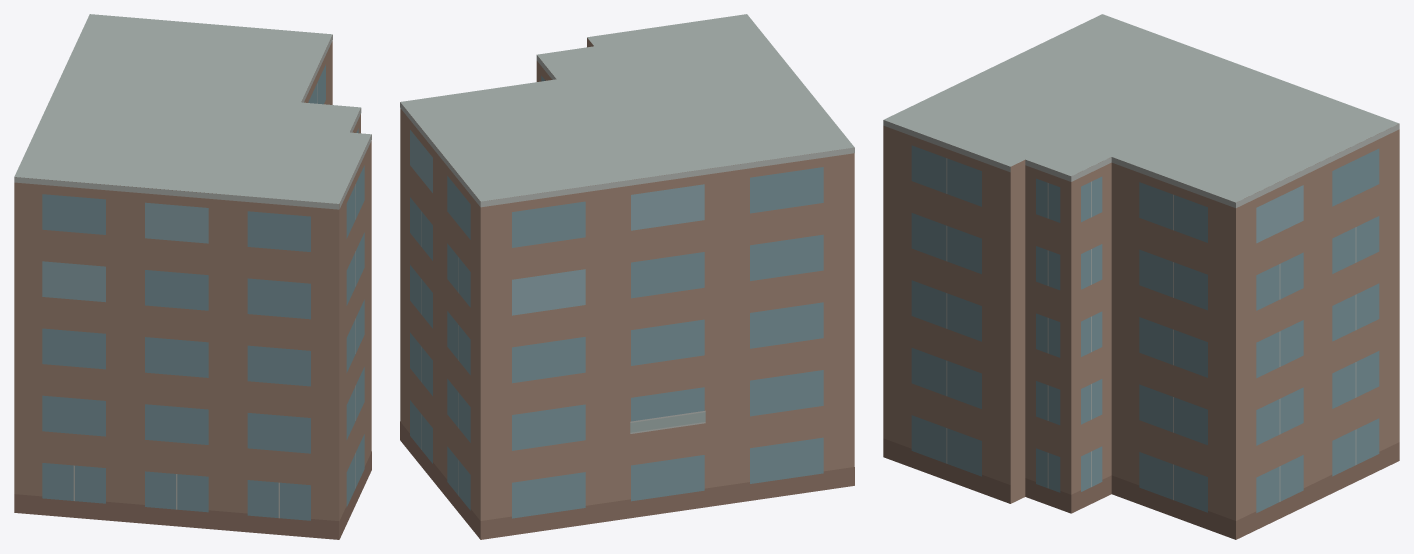
The model's file is survey-upis-32871816.glb.
The picture shows the model from 3 angles, left to right: view 1: azimuth 30°, elevation 25°; view 2: azimuth 150°, elevation 25°; view 3: azimuth 270°, elevation 25°; orthographic projection.
Visible parts, largest first — view 1: survey-upis-32871816.tmp; view 2: survey-upis-32871816.tmp; view 3: survey-upis-32871816.tmp.
Part boxes in pixels (box(x1,y1,x2,y2)): survey-upis-32871816.tmp: box(14, 14, 371, 539); survey-upis-32871816.tmp: box(400, 14, 854, 539); survey-upis-32871816.tmp: box(883, 14, 1399, 539).
Bounding box in the file's own units: 17.4 × 14.5 × 20.13.
